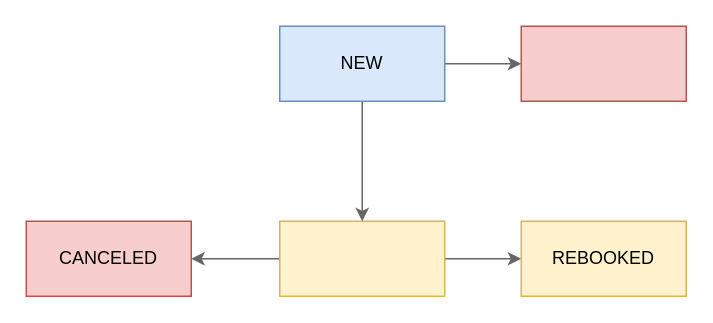
Some shapes in this 713 by 323 pixel diagram are drawn without their labels. Here are the shapes that lost their labels. From the top down, the box of each, then its label:
(520, 25, 686, 101): BLOCKED
(278, 220, 445, 296): BOOKED
